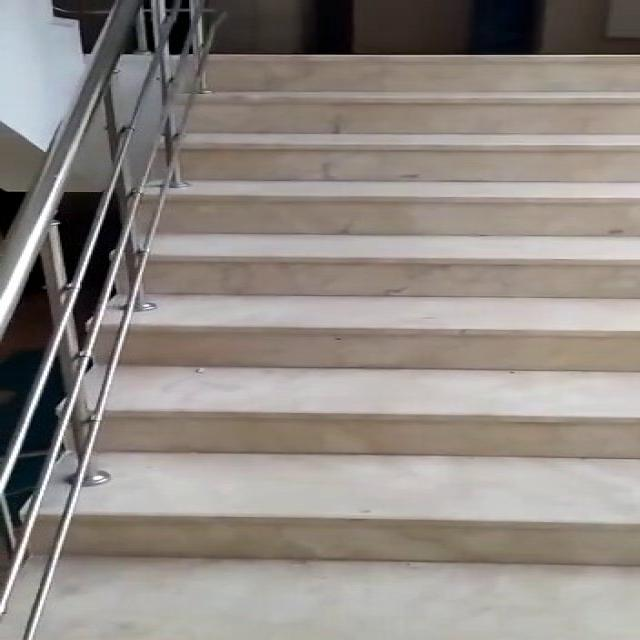upstair: (84, 47, 640, 640)
